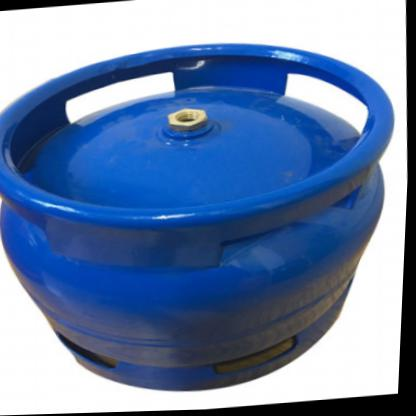gas-tank: (0, 17, 414, 415)
